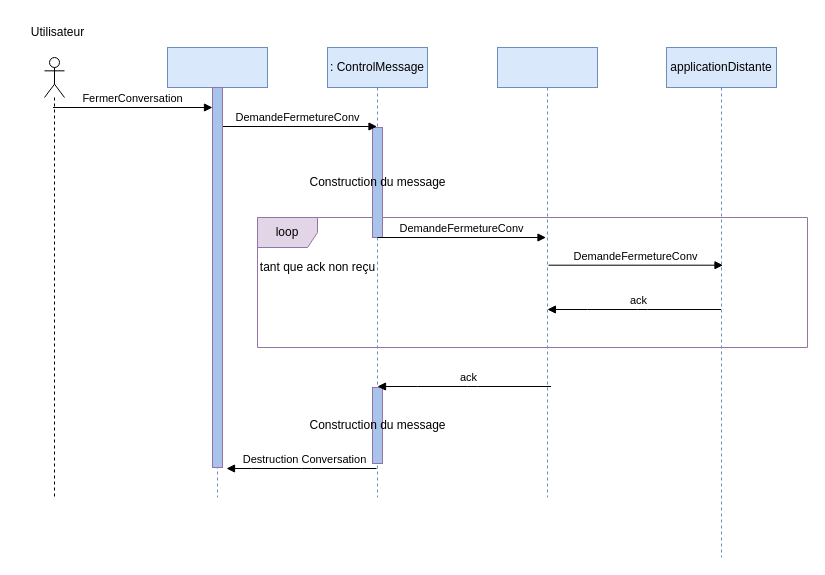
Image size: 825x575. Some labels were removed from this diagram. The box of each missing label's shape, as (x1, y1, x2, y2) in pixels:
conversation: Conversation: (166, 46, 268, 498)
NetworkManager: (496, 46, 598, 498)
